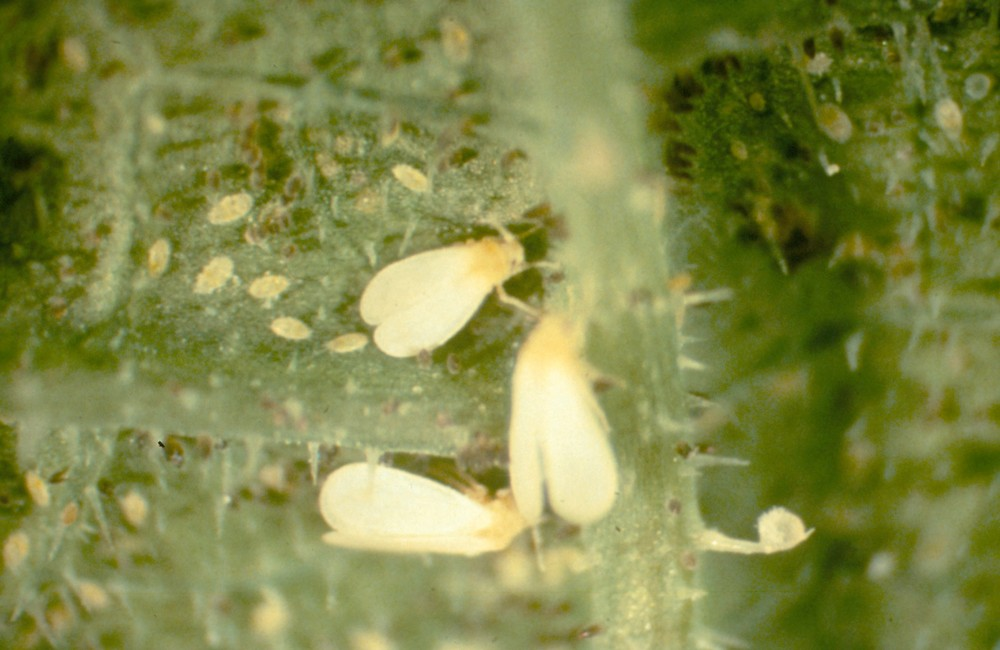Mosca Blanca: (303, 435, 560, 587), (477, 312, 638, 535), (352, 201, 565, 364)
